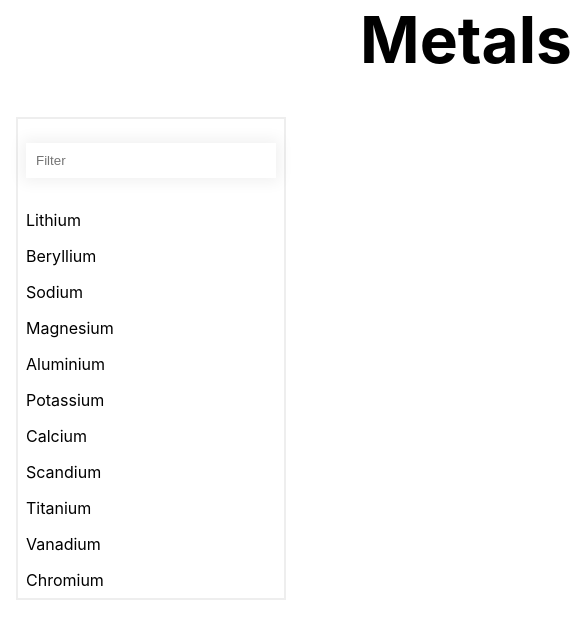
Test: Metals page › should show one selected metal
select a metal
Click the list item "Potassium" at (65, 400), box 26,390 -> 104,410
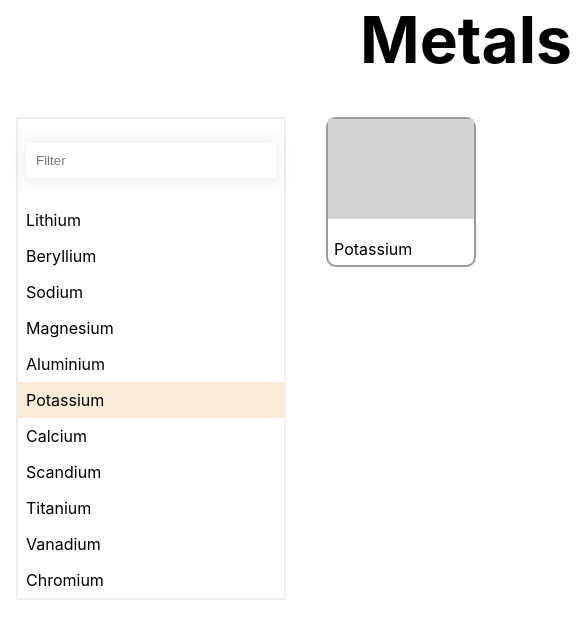
Now the text "Potassium" is shown, box 334,239 -> 412,259
